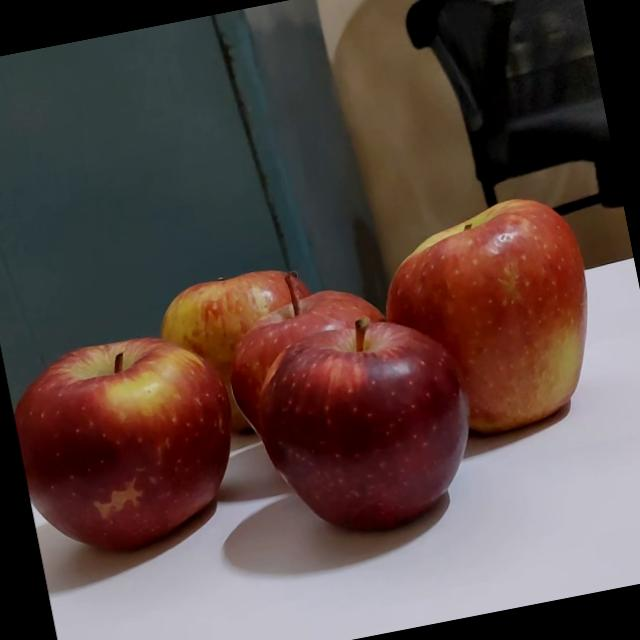apple: (368, 190, 618, 461), (6, 326, 274, 578), (258, 297, 507, 554), (218, 257, 424, 493), (146, 262, 330, 464)
